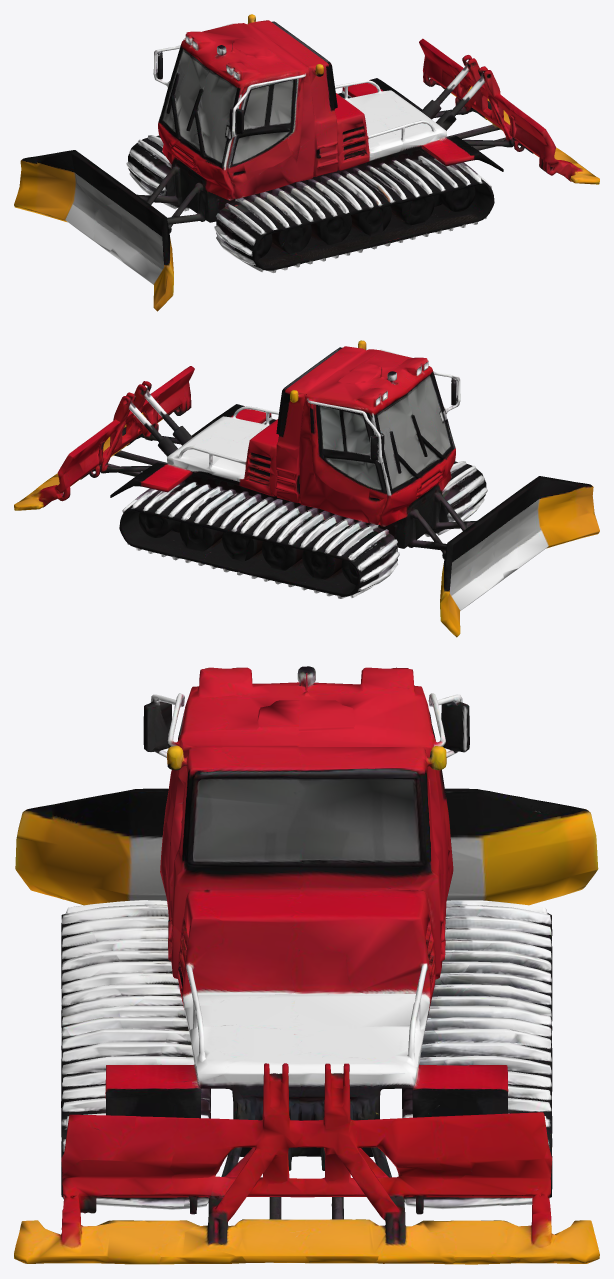
The model's file is groomer.glb.
3 renders of one model, top to bottom at view 1: azimuth 30°, elevation 25°; view 2: azimuth 150°, elevation 25°; view 3: azimuth 270°, elevation 25°, orthographic. The views are drawn at different scales.
Size of the model in its own units: 1.9 by 0.7588 by 1.12.
Materials: 1 (1 with a texture image).
